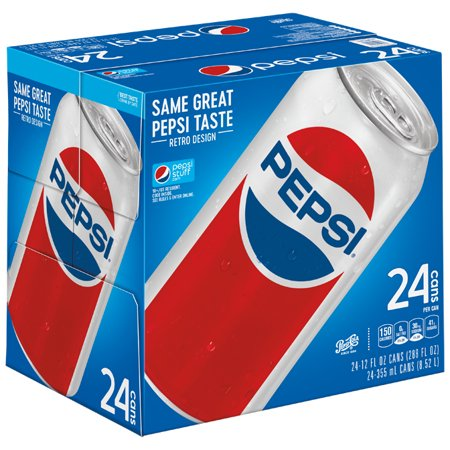pepsi: (247, 126, 373, 279), (247, 132, 373, 279), (39, 145, 113, 280), (44, 145, 113, 280), (199, 63, 251, 76), (199, 23, 249, 34), (155, 166, 170, 182)
